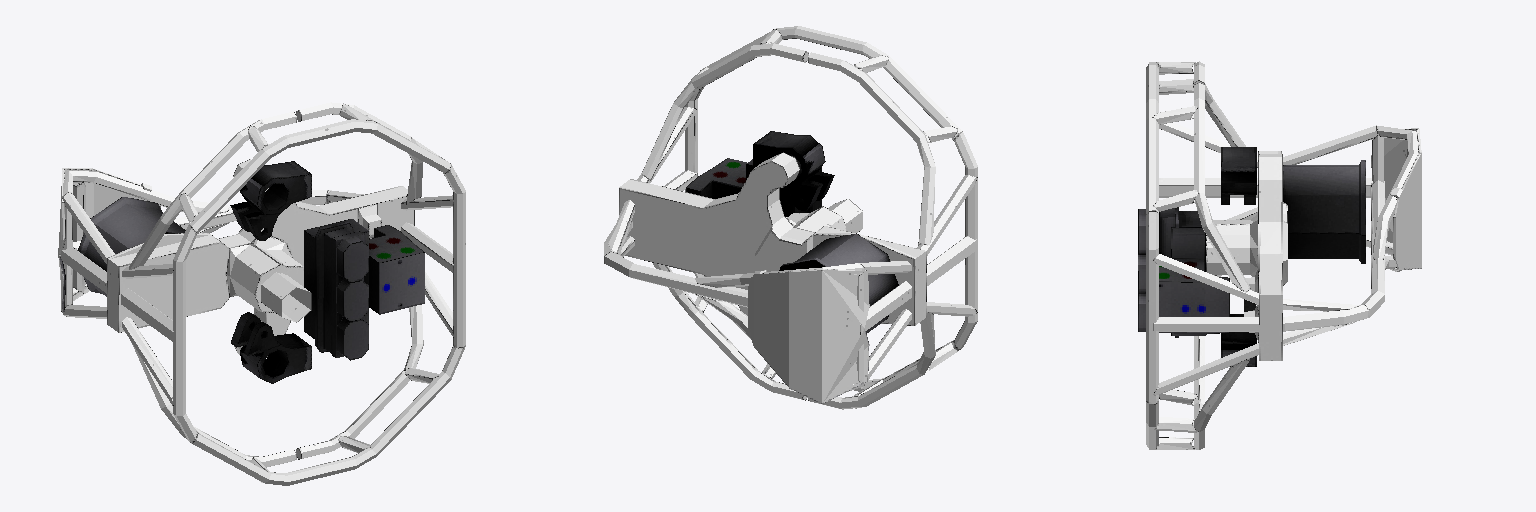
The picture shows the model from 3 angles: view 1: azimuth 30°, elevation 25°; view 2: azimuth 150°, elevation 25°; view 3: azimuth 270°, elevation 25°; orthographic projection.
Visible parts, largest first — view 1: pelvis; view 2: pelvis; view 3: pelvis.
Part boxes in pixels (bbox=[...]): pelvis: bbox=[58, 102, 465, 485]; pelvis: bbox=[604, 26, 977, 409]; pelvis: bbox=[1138, 61, 1421, 449].
Bounding box in the file's own units: 0.3298 × 0.3727 × 0.2739.
Materials: 1 (1 with a texture image).